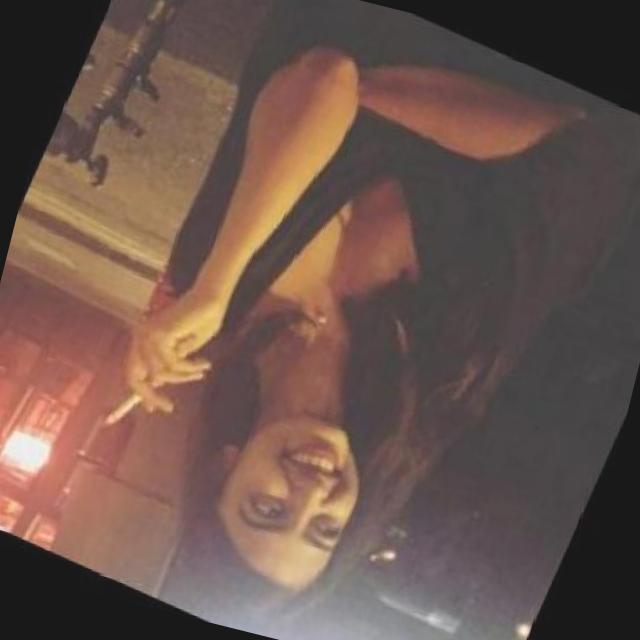cigarette: (101, 274, 238, 454)
